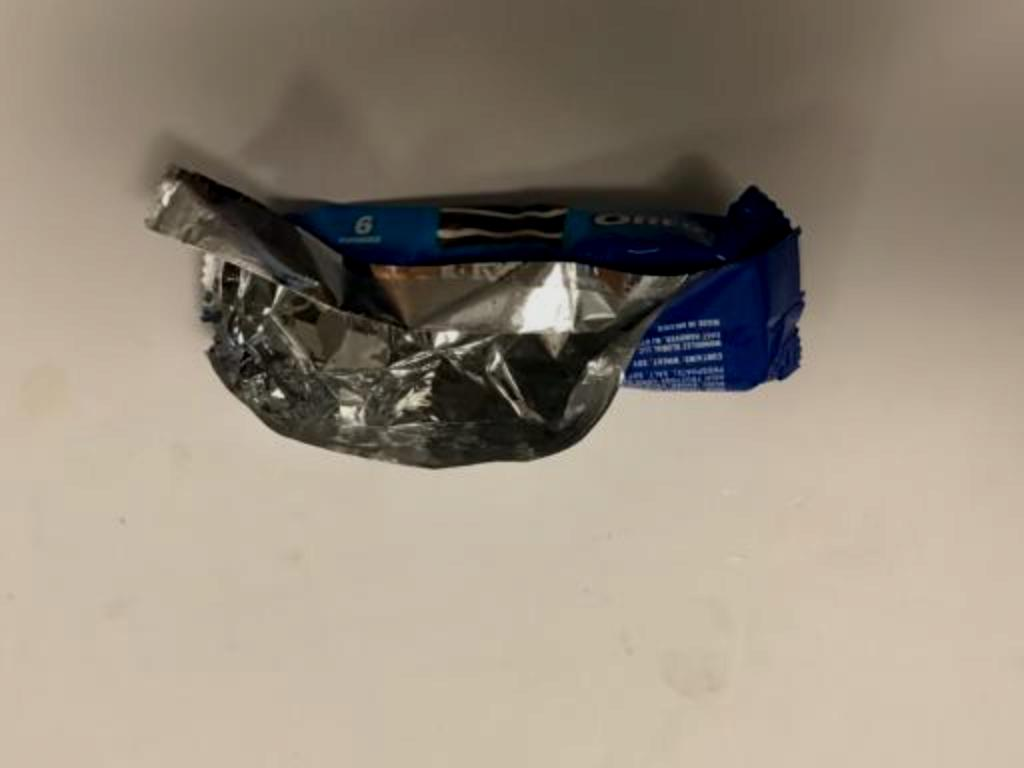garbage: (126, 139, 844, 543)
